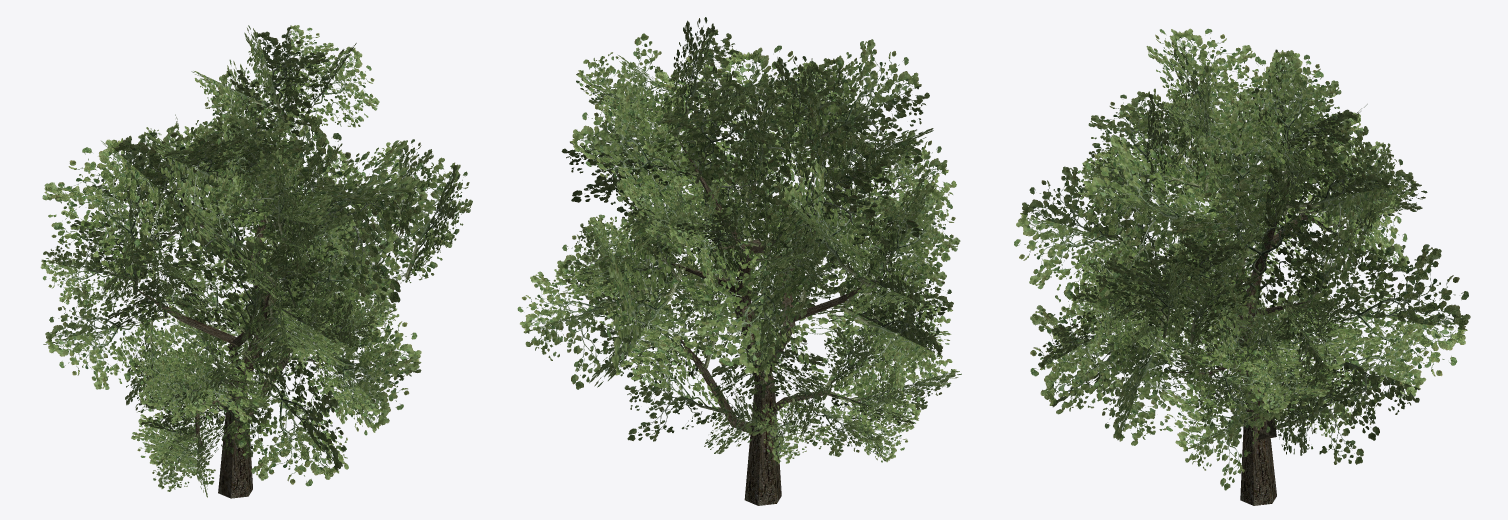
The model's file is waiweishushen.FBX.
3 renders of one model, left to right at view 1: azimuth 30°, elevation 25°; view 2: azimuth 150°, elevation 25°; view 3: azimuth 270°, elevation 25°, orthographic. The views are drawn at different scales.
Visible parts, largest first — view 1: waiweishus; view 2: waiweishus; view 3: waiweishus.
Boxes of the visible parts, x1,y1,x2,y2 form: waiweishus: (40,25,472,498); waiweishus: (517,17,961,505); waiweishus: (1014,28,1470,505).
Size of the model in its own units: 21.97 by 23.76 by 22.11.
2 materials, 2 textured.
